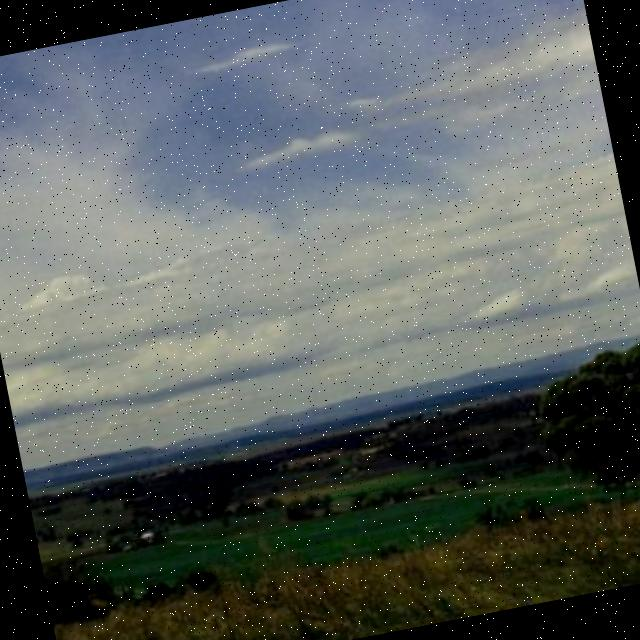Cs: (1, 1, 640, 425)
